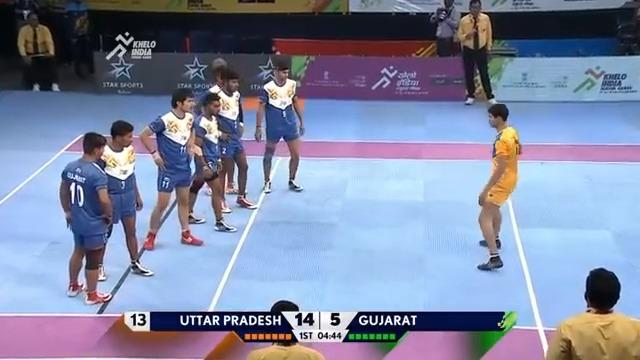Player: (138, 86, 204, 250), (58, 131, 113, 304), (95, 119, 154, 280), (545, 267, 639, 359), (207, 67, 258, 211), (253, 55, 305, 193), (187, 91, 237, 232)
Raider: (475, 104, 522, 272)
referee: (456, 0, 498, 105), (16, 11, 60, 91), (61, 0, 94, 79), (429, 0, 460, 57)
